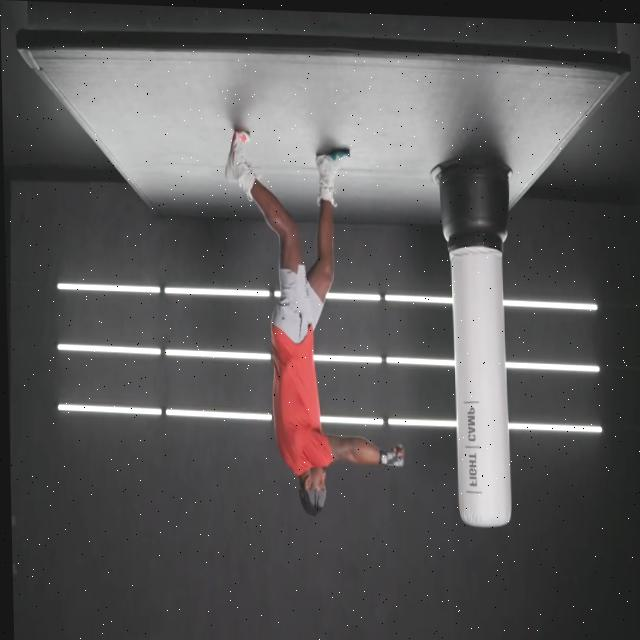Cross: (214, 123, 416, 478)
